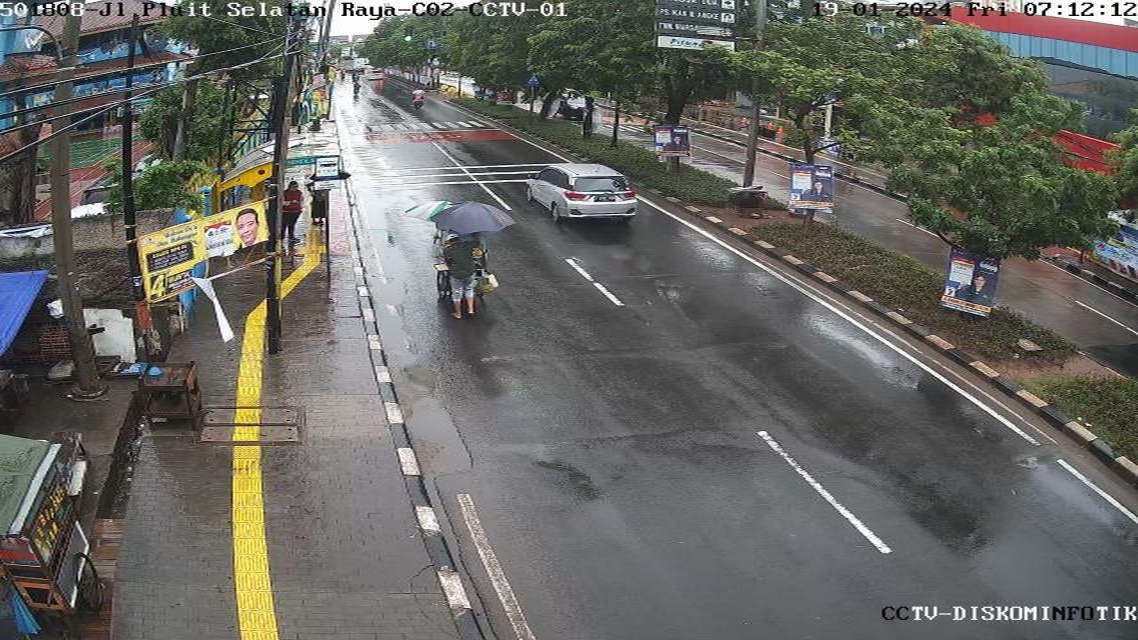Gerobak: (2, 442, 117, 627), (437, 231, 503, 309)
